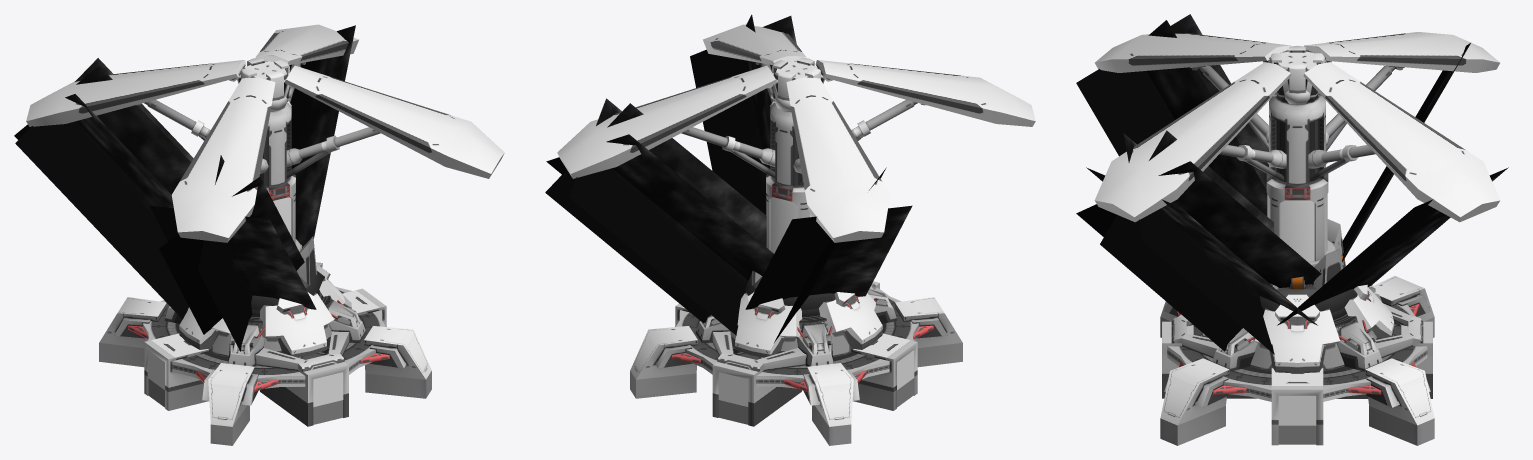
The model's file is energy-exchanger.glb.
3 views of the same model, side by side, from view 1: azimuth 30°, elevation 25°; view 2: azimuth 150°, elevation 25°; view 3: azimuth 270°, elevation 25° (orthographic). The views are drawn at different scales.
Parts seen in each view (by area): view 1: energy-exchanger, energy-exchanger-h3-1, energy-exchanger-h2-1, energy-exchanger-f2-1, energy-exchanger-f4-1, energy-exchanger-f1-1, energy-exchanger-h4-1, energy-exchanger-l2, energy-exchanger-f3-1, energy-exchanger-black, energy-exchanger-e3-1, energy-exchanger-l1 (+4 smaller); view 2: energy-exchanger, energy-exchanger-h4-1, energy-exchanger-f1-1, energy-exchanger-h3-1, energy-exchanger-f3-1, energy-exchanger-f2-1, energy-exchanger-h1-1, energy-exchanger-f4-1, energy-exchanger-l3, energy-exchanger-l1, energy-exchanger-black, energy-exchanger-e2-1 (+4 smaller); view 3: energy-exchanger, energy-exchanger-h1-1, energy-exchanger-f3-1, energy-exchanger-f4-1, energy-exchanger-h2-1, energy-exchanger-f1-1, energy-exchanger-f2-1, energy-exchanger-h4-1, energy-exchanger-l4, energy-exchanger-k, energy-exchanger-a1, energy-exchanger-a2 (+11 smaller).
Part boxes in pixels (x1,y1,x2,y2): energy-exchanger: [99, 61, 431, 445]; energy-exchanger-h3-1: [14, 58, 193, 319]; energy-exchanger-h2-1: [149, 155, 316, 351]; energy-exchanger-f2-1: [171, 77, 275, 242]; energy-exchanger-f4-1: [284, 65, 504, 178]; energy-exchanger-f1-1: [26, 60, 246, 126]; energy-exchanger-h4-1: [289, 25, 355, 247]; energy-exchanger-l2: [259, 292, 334, 357]; energy-exchanger-f3-1: [255, 24, 358, 64]; energy-exchanger-black: [147, 350, 343, 407]; energy-exchanger-e3-1: [286, 127, 380, 166]; energy-exchanger-l1: [179, 307, 230, 349]; energy-exchanger: [630, 61, 962, 445]; energy-exchanger-h4-1: [545, 98, 773, 335]; energy-exchanger-f1-1: [786, 77, 890, 242]; energy-exchanger-h3-1: [745, 167, 912, 342]; energy-exchanger-f3-1: [557, 65, 777, 178]; energy-exchanger-f2-1: [815, 60, 1035, 126]; energy-exchanger-h1-1: [690, 14, 796, 214]; energy-exchanger-f4-1: [703, 24, 806, 64]; energy-exchanger-l3: [735, 292, 802, 357]; energy-exchanger-l1: [819, 293, 882, 349]; energy-exchanger-black: [718, 350, 914, 406]; energy-exchanger-e2-1: [681, 127, 775, 166]; energy-exchanger: [1160, 62, 1434, 445]; energy-exchanger-h1-1: [1076, 130, 1321, 354]; energy-exchanger-f3-1: [1303, 62, 1500, 222]; energy-exchanger-f4-1: [1094, 62, 1291, 222]; energy-exchanger-h2-1: [1076, 14, 1268, 216]; energy-exchanger-f1-1: [1304, 32, 1499, 72]; energy-exchanger-f2-1: [1095, 33, 1290, 72]; energy-exchanger-h4-1: [1277, 167, 1508, 325]; energy-exchanger-l4: [1255, 308, 1339, 373]; energy-exchanger-k: [1267, 194, 1327, 261]; energy-exchanger-a1: [1297, 96, 1325, 185]; energy-exchanger-a2: [1269, 96, 1297, 185].
Size of the model in its own units: 13.19 by 10.93 by 13.19.
4 materials, 3 textured.
